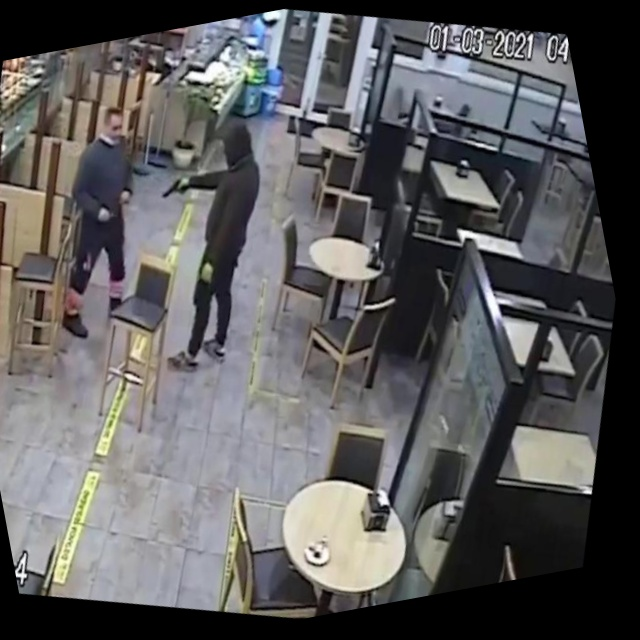gun: (143, 154, 210, 218)
